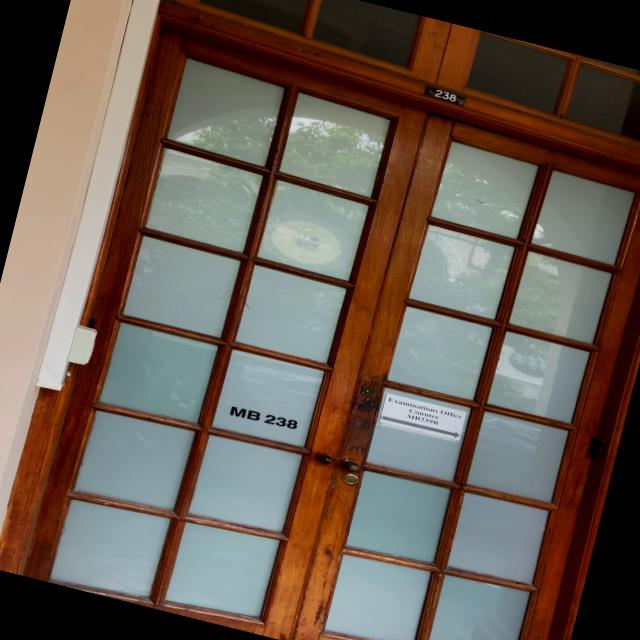room238: (422, 84, 467, 106)
